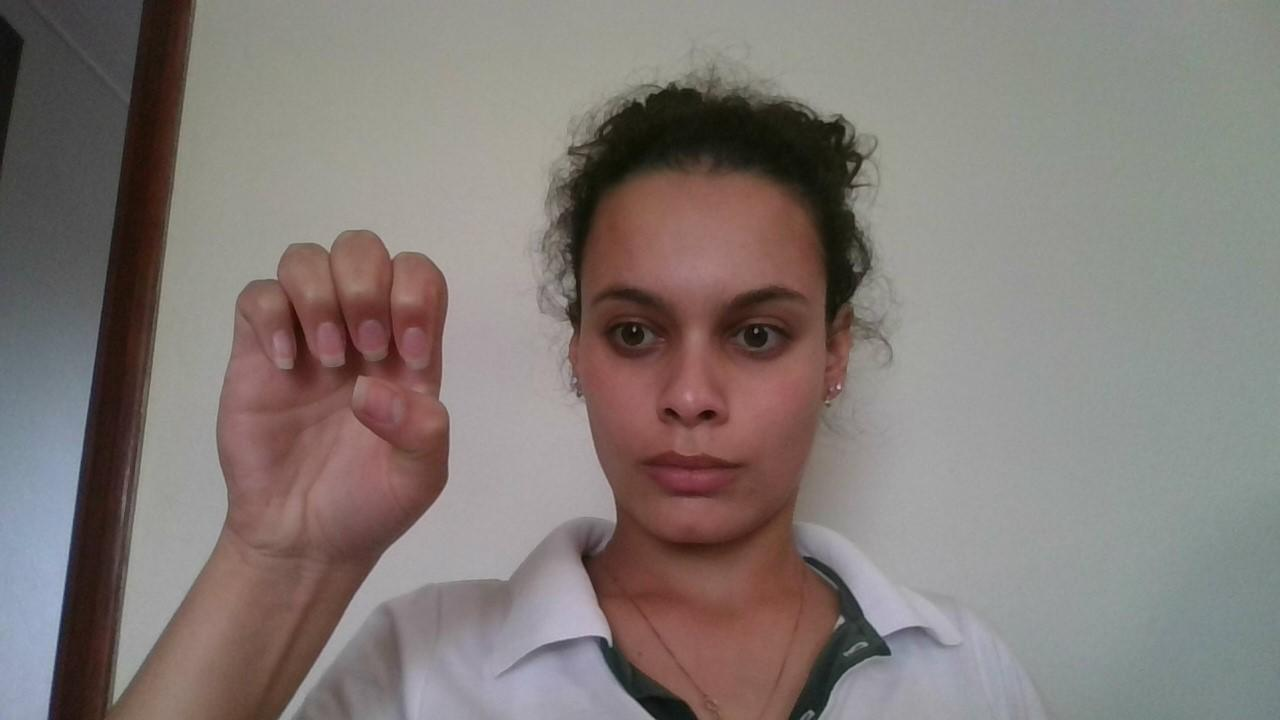E: (218, 220, 454, 554)
